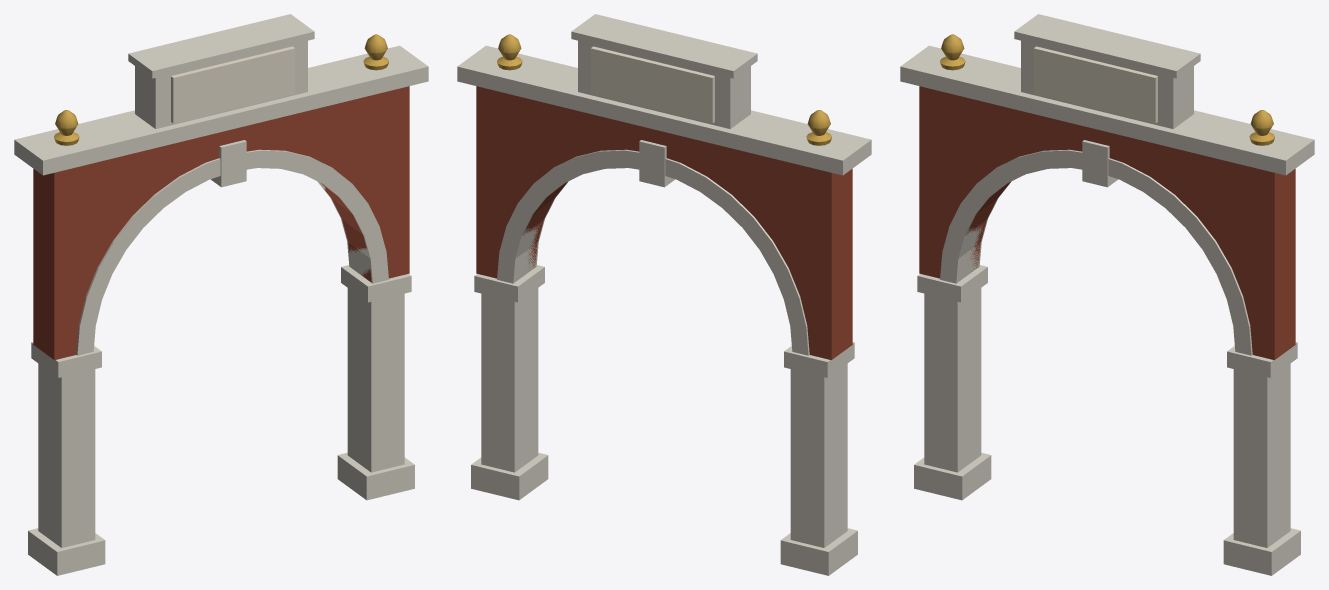
The model's file is gate.glb.
3 views of the same model, side by side, from view 1: azimuth 30°, elevation 25°; view 2: azimuth 150°, elevation 25°; view 3: azimuth 330°, elevation 25° (orthographic).
Parts seen in each view (by area): view 1: brick6, stone9, stone1, stone4, stone7, plaque10, stone12, stone11, stone3, stone0, stone5, stone2 (+3 smaller); view 2: brick6, stone9, stone1, stone4, stone7, plaque10_mz, stone12, stone11, stone3, stone0, stone5, stone2 (+3 smaller); view 3: brick6, stone9, stone1, stone4, stone7, plaque10, stone12, stone11, stone0, stone3, stone2, stone5 (+3 smaller).
Boxes of the visible parts, x1=… form: brick6: x1=33, y1=86, x2=409, y2=359; stone9: x1=14, y1=45, x2=428, y2=175; stone1: x1=38, y1=363, x2=95, y2=547; stone4: x1=347, y1=288, x2=404, y2=472; stone7: x1=76, y1=149, x2=388, y2=355; plaque10: x1=171, y1=46, x2=295, y2=123; stone12: x1=128, y1=14, x2=314, y2=78; stone11: x1=135, y1=40, x2=307, y2=128; stone3: x1=337, y1=452, x2=414, y2=500; stone0: x1=28, y1=528, x2=105, y2=575; stone5: x1=341, y1=265, x2=411, y2=302; stone2: x1=31, y1=342, x2=101, y2=377; brick6: x1=476, y1=86, x2=852, y2=359; stone9: x1=457, y1=45, x2=871, y2=175; stone1: x1=790, y1=363, x2=847, y2=547; stone4: x1=481, y1=288, x2=538, y2=472; stone7: x1=497, y1=149, x2=809, y2=355; plaque10_mz: x1=590, y1=46, x2=714, y2=123; stone12: x1=571, y1=14, x2=757, y2=78; stone11: x1=578, y1=40, x2=750, y2=128; stone3: x1=471, y1=452, x2=548, y2=500; stone0: x1=780, y1=528, x2=857, y2=575; stone5: x1=474, y1=265, x2=544, y2=302; stone2: x1=784, y1=342, x2=854, y2=377; brick6: x1=919, y1=86, x2=1295, y2=359; stone9: x1=900, y1=45, x2=1314, y2=175; stone1: x1=924, y1=288, x2=981, y2=472; stone4: x1=1233, y1=363, x2=1290, y2=547; stone7: x1=940, y1=149, x2=1252, y2=355; plaque10: x1=1033, y1=46, x2=1157, y2=123; stone12: x1=1014, y1=14, x2=1200, y2=78; stone11: x1=1021, y1=40, x2=1193, y2=128; stone0: x1=914, y1=452, x2=991, y2=500; stone3: x1=1223, y1=528, x2=1300, y2=575; stone2: x1=917, y1=265, x2=987, y2=302; stone5: x1=1227, y1=342, x2=1297, y2=377.
Size of the model in its own units: 7.6 by 9.02 by 1.
